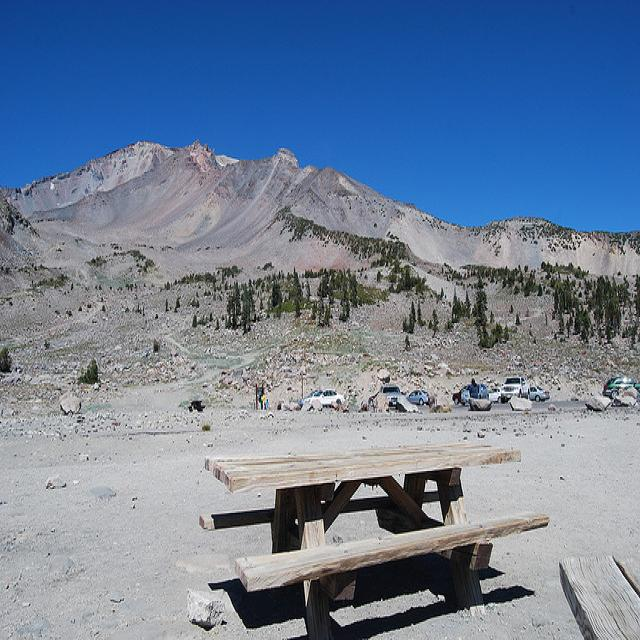Vehicle: (602, 374, 640, 400), (500, 377, 530, 404), (461, 383, 489, 406), (313, 388, 345, 407), (381, 384, 403, 408), (406, 389, 431, 405), (530, 385, 550, 401), (488, 386, 502, 403), (453, 388, 465, 405)
